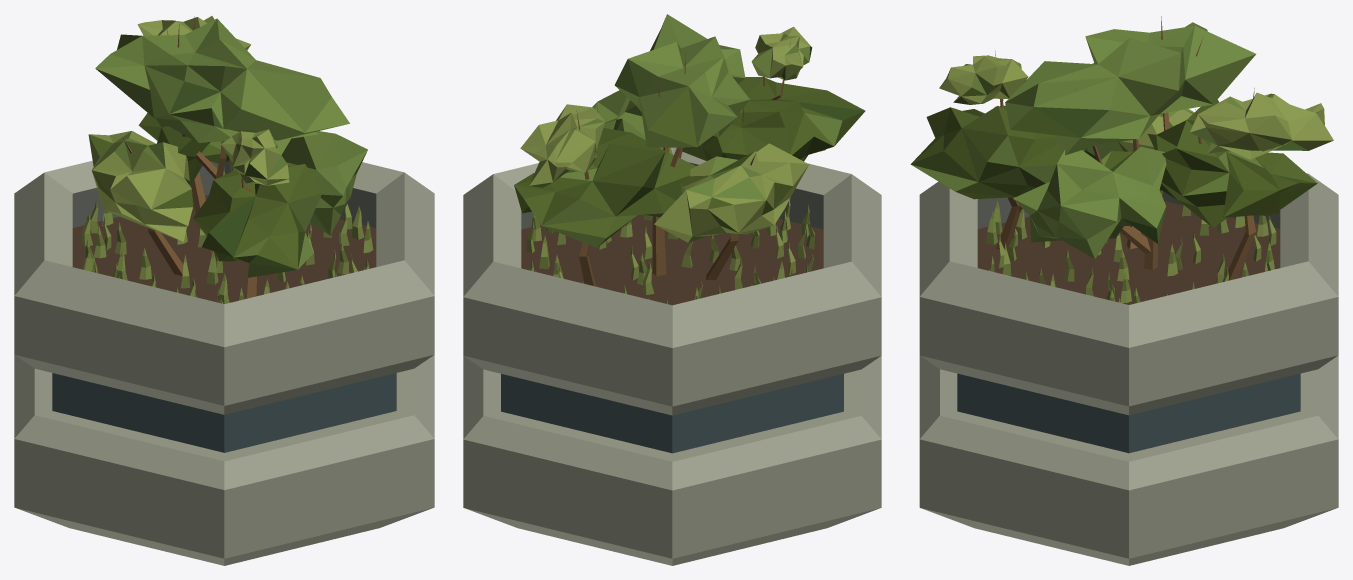
The model's file is BigPotBush.fbx.
The picture shows the model from 3 angles, left to right: view 1: azimuth 30°, elevation 25°; view 2: azimuth 150°, elevation 25°; view 3: azimuth 270°, elevation 25°; orthographic projection.
Parts seen in each view (by area): view 1: BigPotBush; view 2: BigPotBush; view 3: BigPotBush.
Part boxes in pixels (box(x1,y1,x2,y2)): BigPotBush: box(14, 16, 434, 565); BigPotBush: box(463, 14, 881, 565); BigPotBush: box(910, 16, 1338, 565).
Size of the model in its own units: 160 by 169 by 142.
